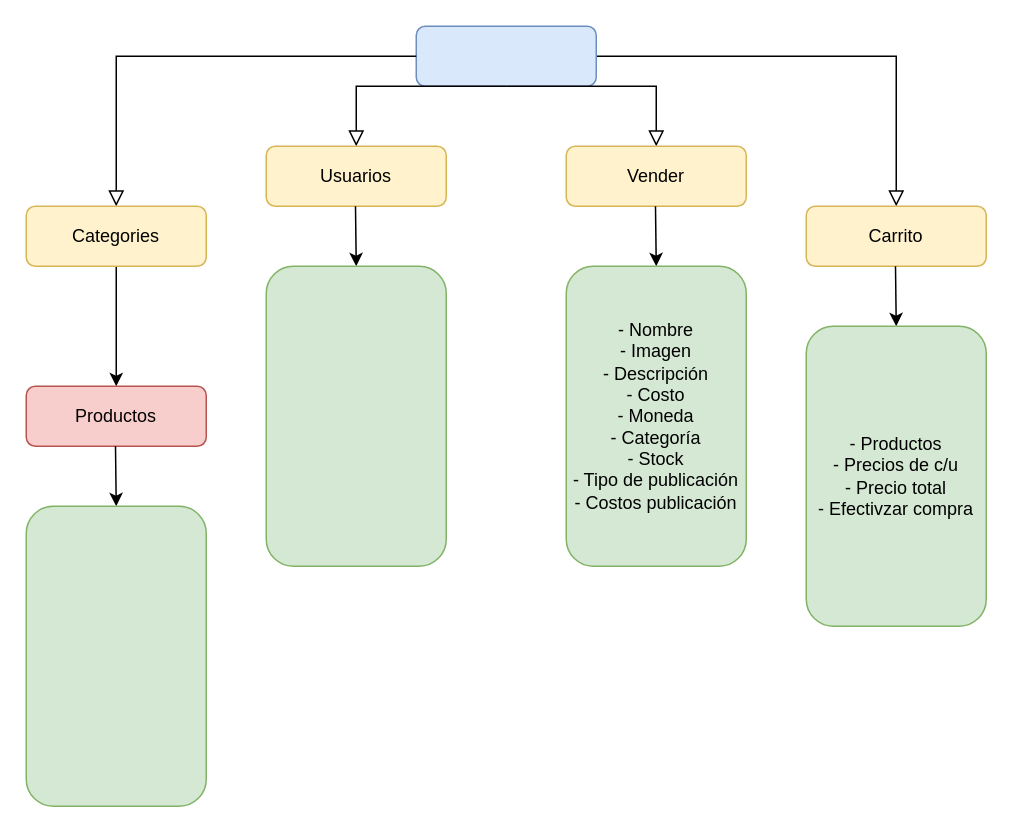
Image size: 1013x833. Some labels were removed from this diagram. Here are the shapes that lost their labels. From the top down, the centre of each, then its label:
(x=505, y=55): E-comerse
(x=355, y=415): - Nombre - Email - Contraseña
(x=115, y=655): - Nombre - Descripción - Precio - Moneda - Cantidad - Stock - Imágenes
